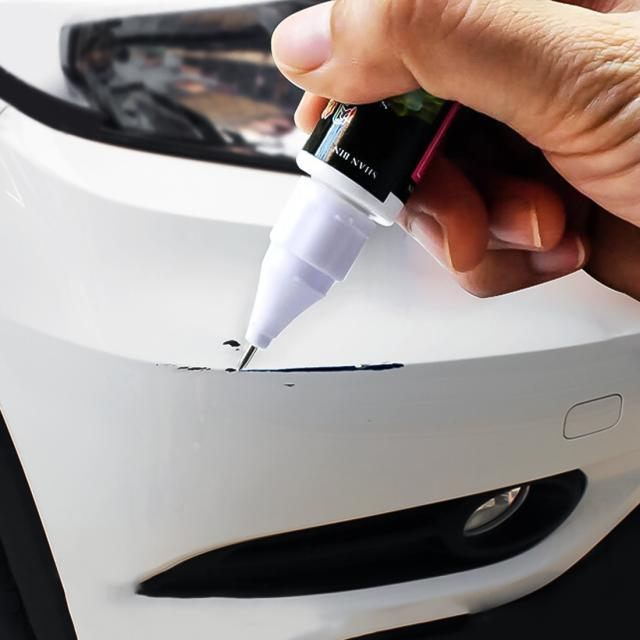scratch: (144, 360, 411, 377), (221, 338, 242, 353), (279, 383, 296, 389)
